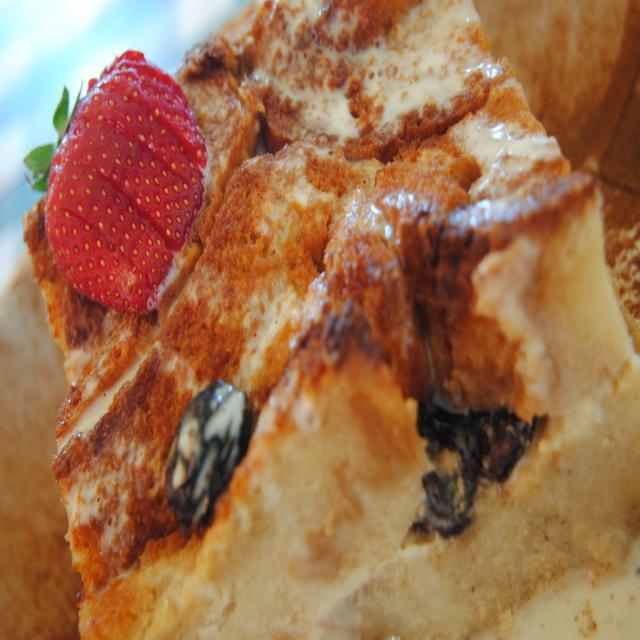Strawberry: (40, 43, 201, 328)
